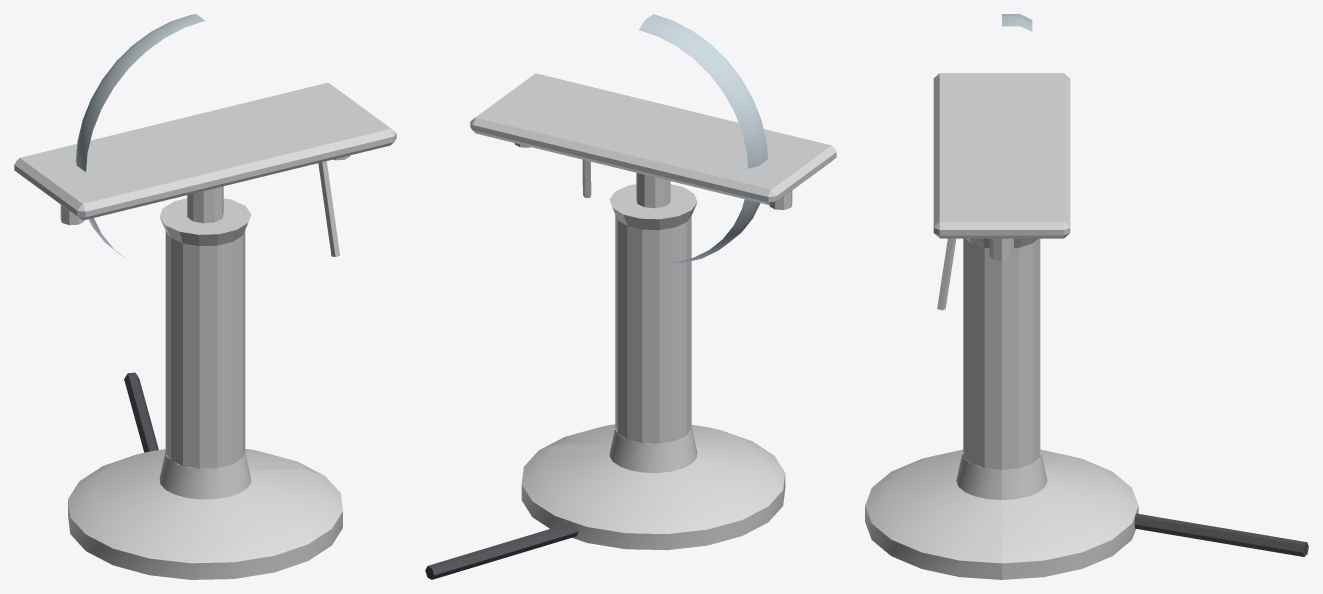
3 views of the same model, side by side, from view 1: azimuth 30°, elevation 25°; view 2: azimuth 150°, elevation 25°; view 3: azimuth 270°, elevation 25° (orthographic). The views are drawn at different scales.
Parts seen in each view (by area): view 1: bankers-lamp; view 2: bankers-lamp; view 3: bankers-lamp.
Part boxes in pixels (left/top/right/bottom): bankers-lamp: left=14, top=14, right=396, bottom=579; bankers-lamp: left=425, top=14, right=836, bottom=579; bankers-lamp: left=865, top=14, right=1308, bottom=579.
Bounding box in the file's own units: 0.24 × 0.36 × 0.292.
